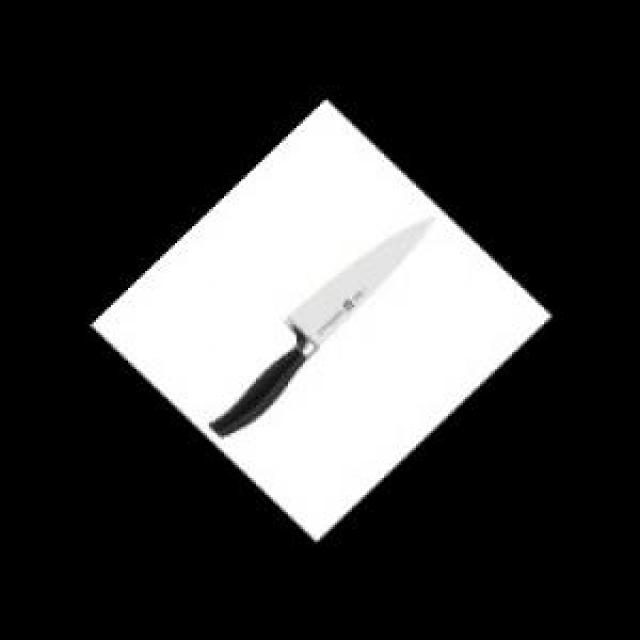knife: (205, 211, 438, 435)
